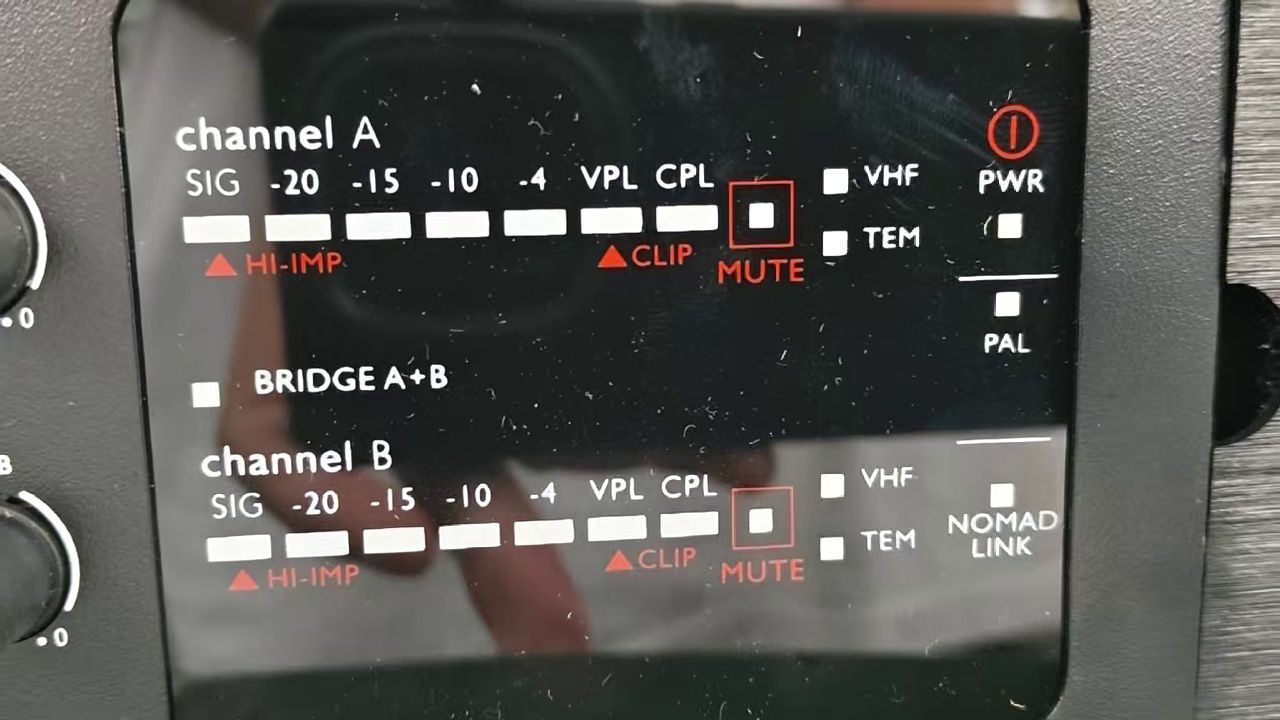FP_CPL: (648, 159, 724, 242), (655, 470, 728, 546)
FP_PWR: (974, 162, 1045, 247)
FP_PWR_area: (952, 101, 1058, 276)
FP_SIG_area: (197, 436, 926, 589), (174, 158, 931, 288)
FP_VPL: (574, 163, 645, 245), (580, 470, 652, 548)
